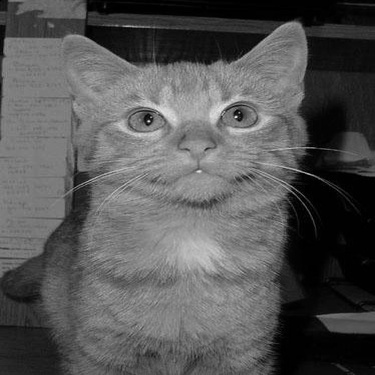cat: (5, 18, 312, 371)
